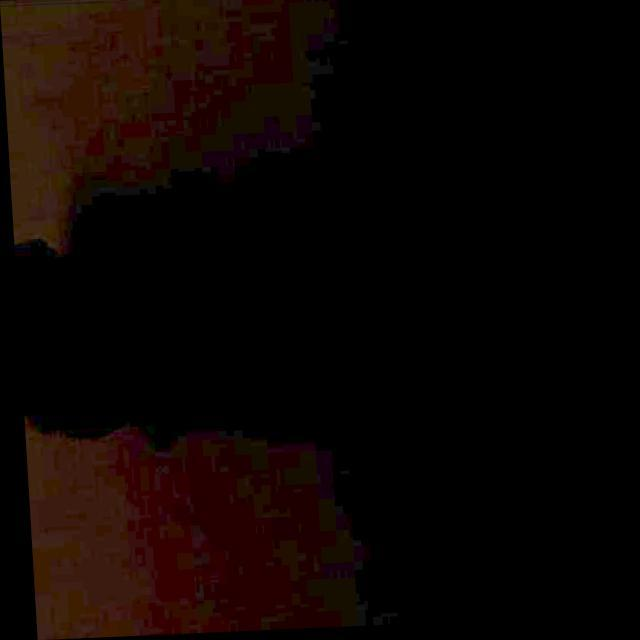zits: (126, 310, 173, 360), (514, 348, 552, 399), (442, 359, 476, 406), (321, 316, 358, 359), (398, 356, 429, 402), (424, 248, 456, 292), (407, 310, 441, 351), (376, 326, 408, 368), (501, 252, 533, 294), (451, 288, 484, 326), (268, 290, 300, 329), (378, 286, 409, 326), (360, 248, 394, 284), (214, 352, 246, 389), (310, 257, 340, 289), (282, 261, 310, 295), (153, 350, 183, 381), (34, 334, 62, 366), (66, 384, 96, 413), (59, 334, 86, 366), (36, 388, 62, 420), (142, 421, 168, 452), (230, 331, 254, 364), (294, 322, 318, 355), (241, 256, 268, 284), (48, 362, 73, 392), (158, 379, 183, 404), (166, 296, 189, 322)
